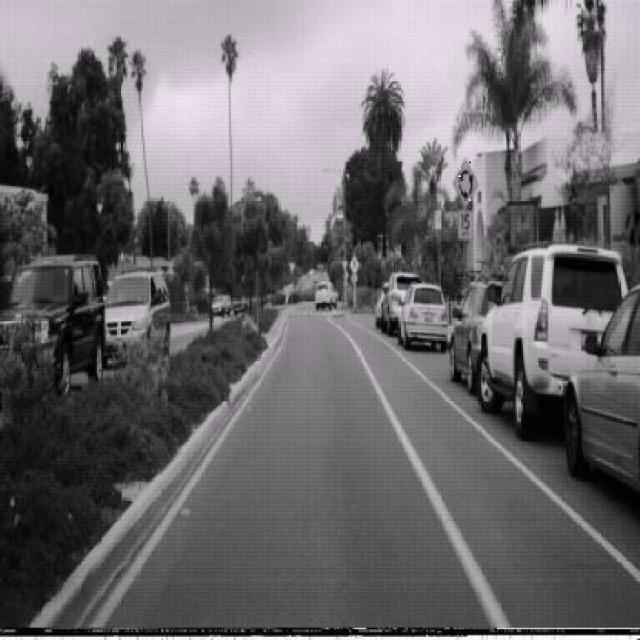roundabout: (452, 157, 479, 211)
